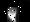person: (8, 8, 20, 22)
